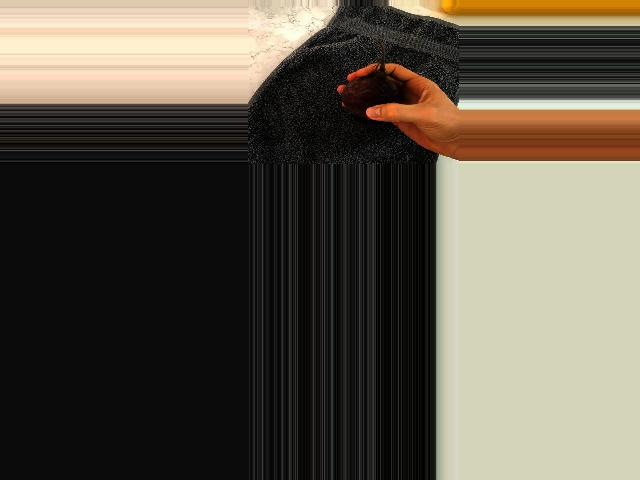beet: (341, 37, 399, 124)
